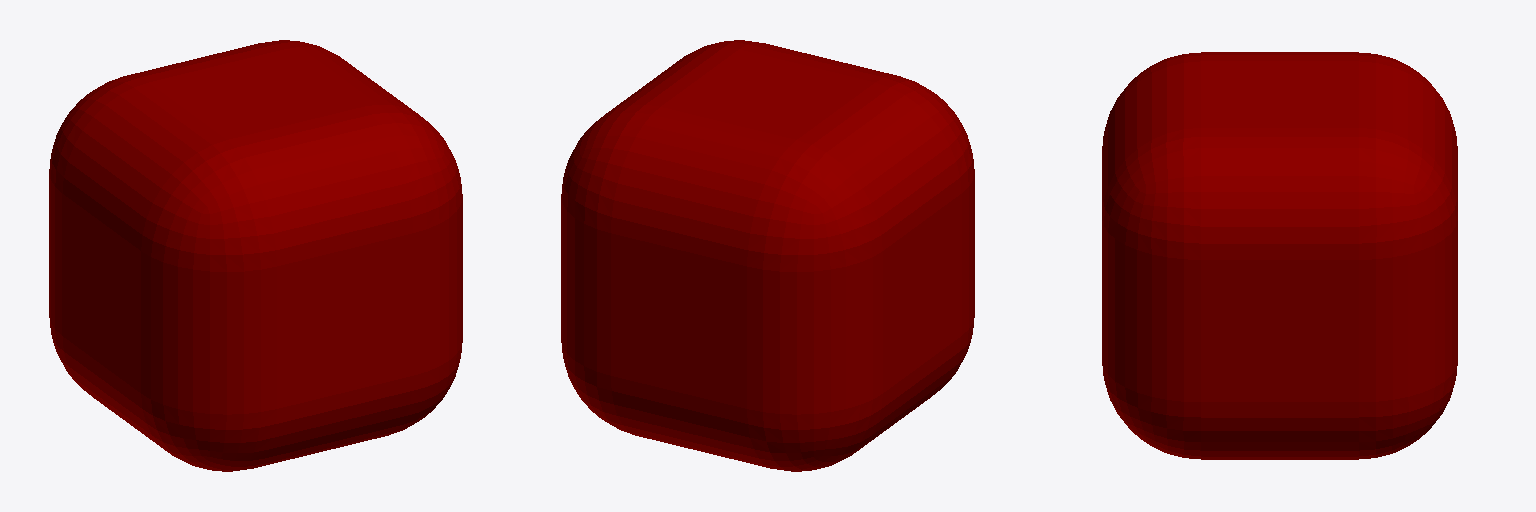
Rendered from brick_guy_ball.obj.
The picture shows the model from 3 angles: view 1: azimuth 30°, elevation 25°; view 2: azimuth 150°, elevation 25°; view 3: azimuth 270°, elevation 25°; orthographic projection.
Parts seen in each view (by area): view 1: Cube; view 2: Cube; view 3: Cube.
Part boxes in pixels (x1,y1,x2,y2): Cube: (49,40,462,471); Cube: (561,40,974,471); Cube: (1102,52,1457,459).
Bounding box in the file's own units: 2 × 2 × 2.